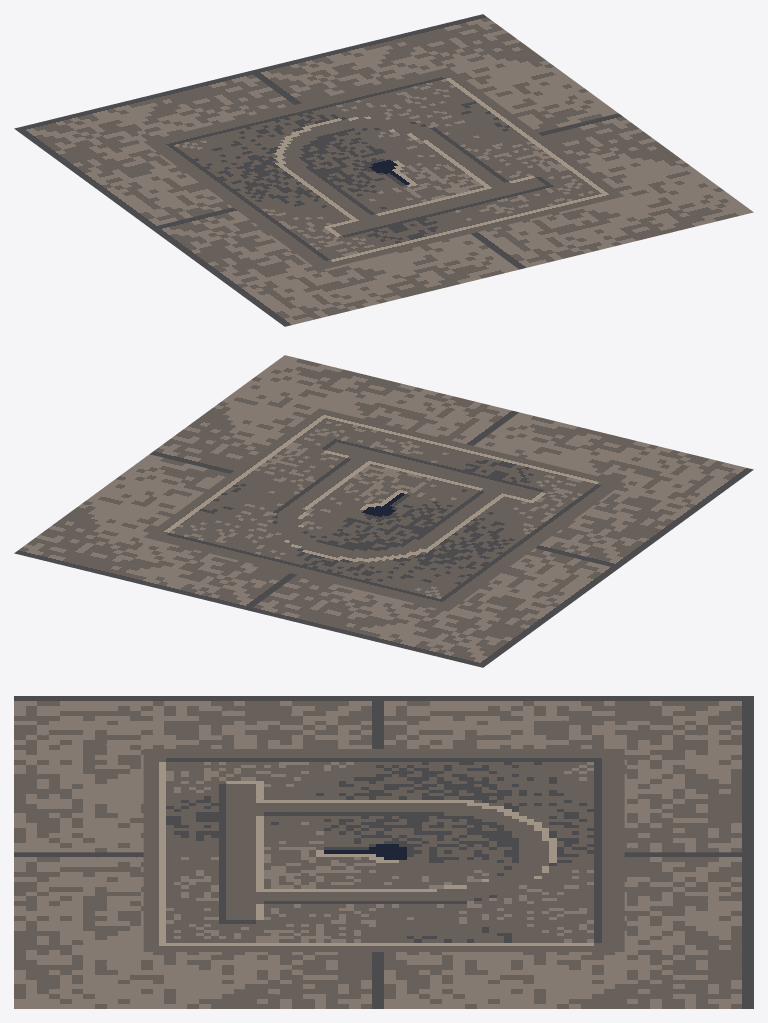
File: tmpl.floor__single.glb
3 views of the same model, one above another, from view 1: azimuth 30°, elevation 25°; view 2: azimuth 150°, elevation 25°; view 3: azimuth 270°, elevation 25° (orthographic). The views are drawn at different scales.
Visible parts, largest first — view 1: kit_shell_floor, kit_card_medallion; view 2: kit_shell_floor, kit_card_medallion; view 3: kit_shell_floor, kit_card_medallion.
Boxes of the visible parts, bbox=[...] form: kit_shell_floor: bbox=[14, 14, 753, 326]; kit_card_medallion: bbox=[144, 67, 623, 270]; kit_shell_floor: bbox=[14, 355, 753, 667]; kit_card_medallion: bbox=[144, 408, 623, 611]; kit_shell_floor: bbox=[14, 696, 753, 1008]; kit_card_medallion: bbox=[143, 749, 624, 951].
Bounding box in the file's own units: 4 × 0.012 × 4.
Materials: 2 (2 with a texture image).
